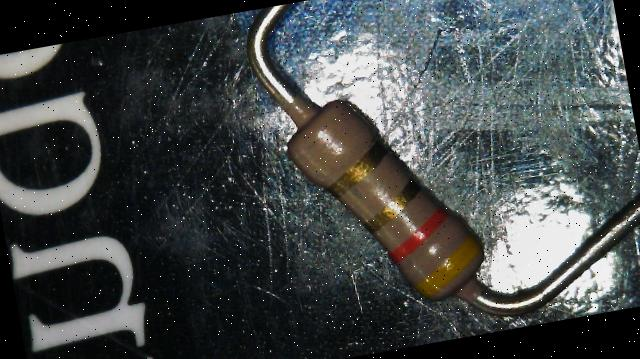gold: (324, 138, 395, 195), (363, 178, 427, 230)
orange: (385, 206, 456, 262)
resistor: (261, 64, 513, 324)
yellow: (409, 233, 486, 297)
